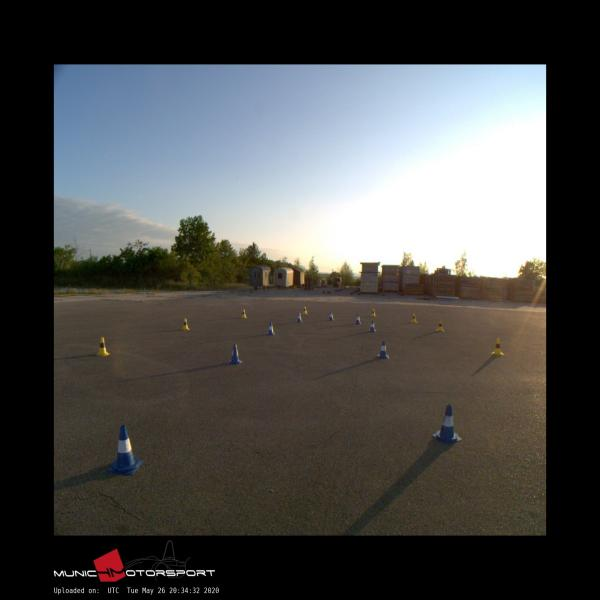blue_cone: (109, 425, 143, 474), (432, 404, 460, 443), (227, 344, 242, 364), (377, 341, 389, 357), (266, 322, 275, 335), (369, 320, 376, 332), (296, 312, 302, 322), (354, 314, 360, 324), (329, 311, 333, 319)
yellow_cone: (96, 337, 110, 355), (491, 338, 503, 355), (180, 318, 189, 330), (436, 320, 444, 331), (241, 308, 246, 318), (302, 306, 308, 314), (371, 308, 376, 316), (412, 313, 416, 321)
